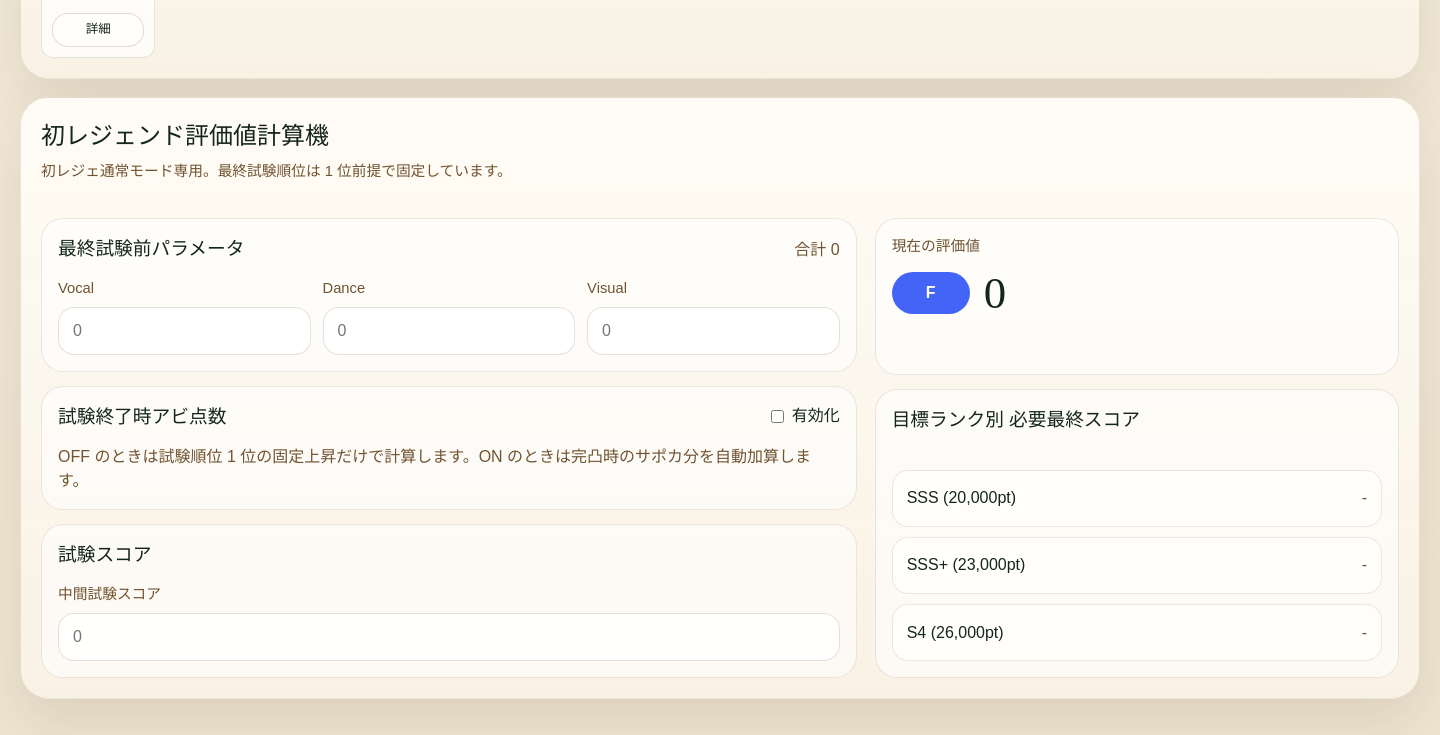
Test case: AppShell › renders the initial legend calculator and updates evaluation targets
(page scrolled)
Expected: the heading "初レジェンド評価値計算機" is shown, left=41, top=123, right=329, bottom=149
Expected: the text named "現在の評価値" reads "0", left=984, top=268, right=1006, bottom=318
Type "1800" into the number field named "最終試験前 Vocal" at (184, 331), box left=58, top=307, right=310, bottom=355
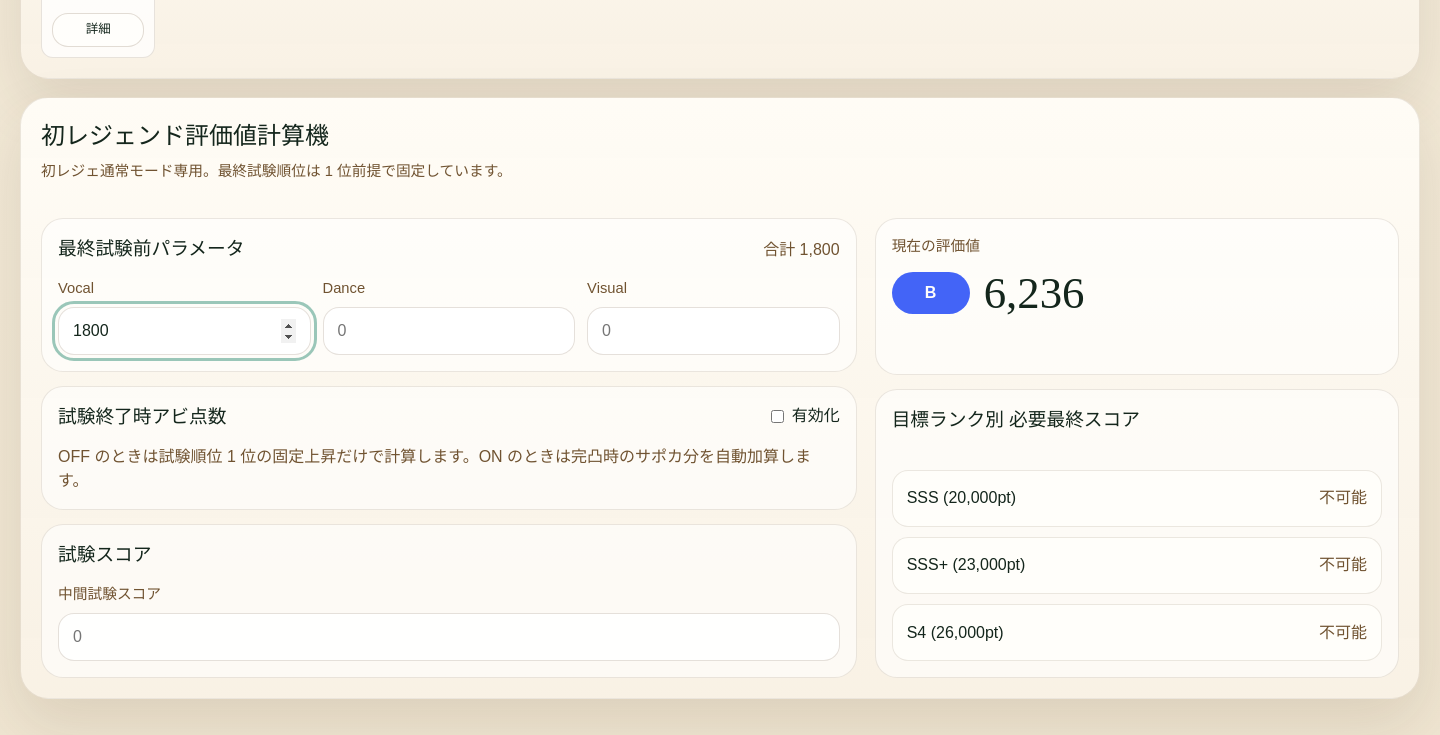
Type "1800" into the number field named "最終試験前 Dance" at (449, 331), box left=322, top=307, right=575, bottom=355
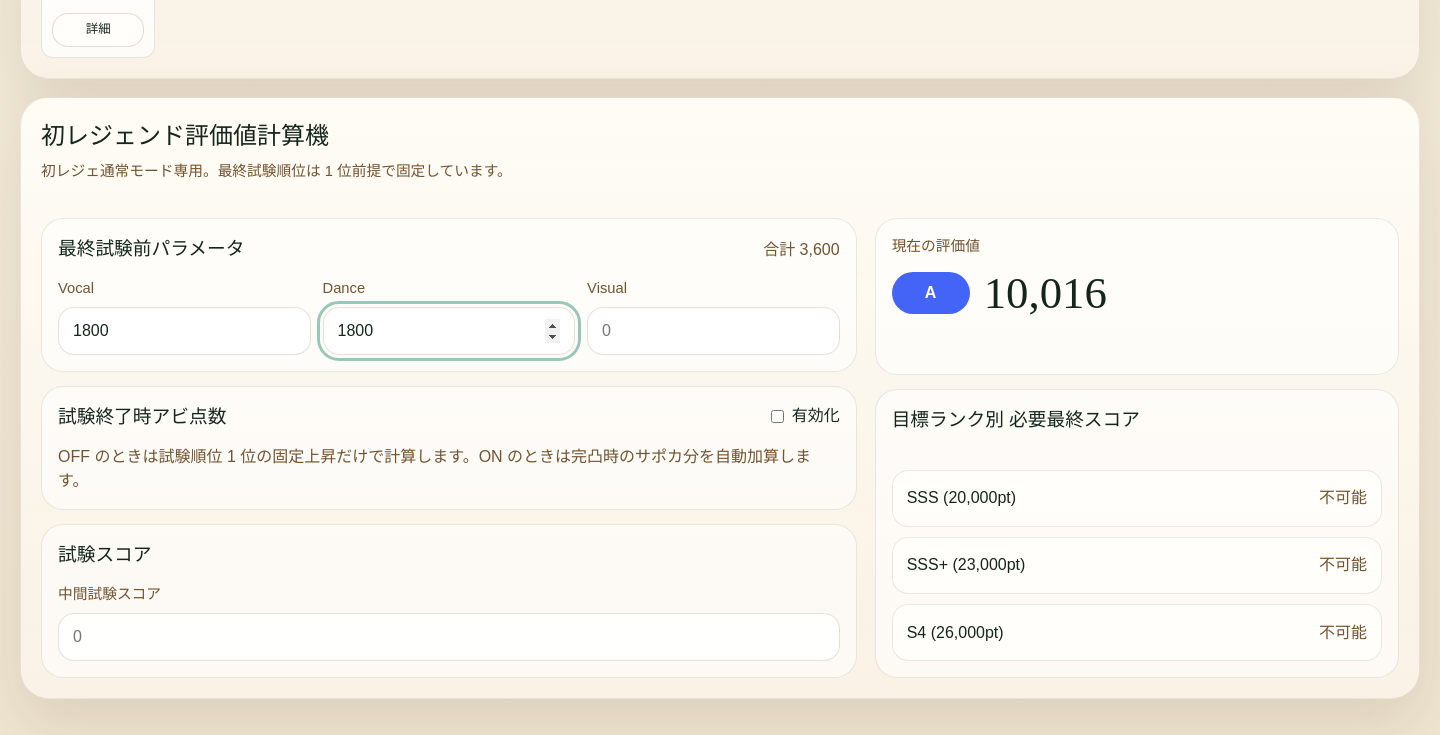
Type "1800" into the number field named "最終試験前 Visual" at (713, 331), box left=587, top=307, right=840, bottom=355
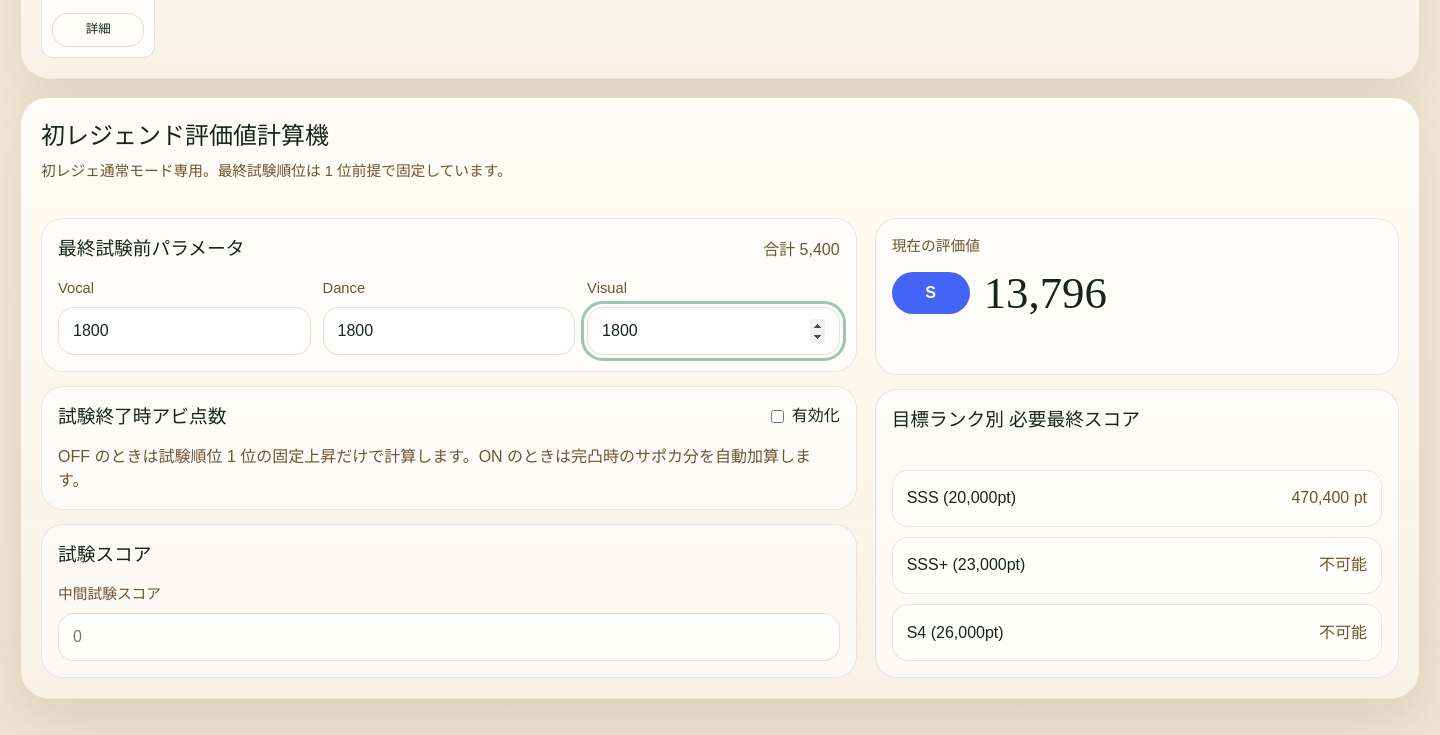
Type "30000" into the number field labelled "中間試験スコア" at (449, 637), box left=58, top=613, right=840, bottom=661
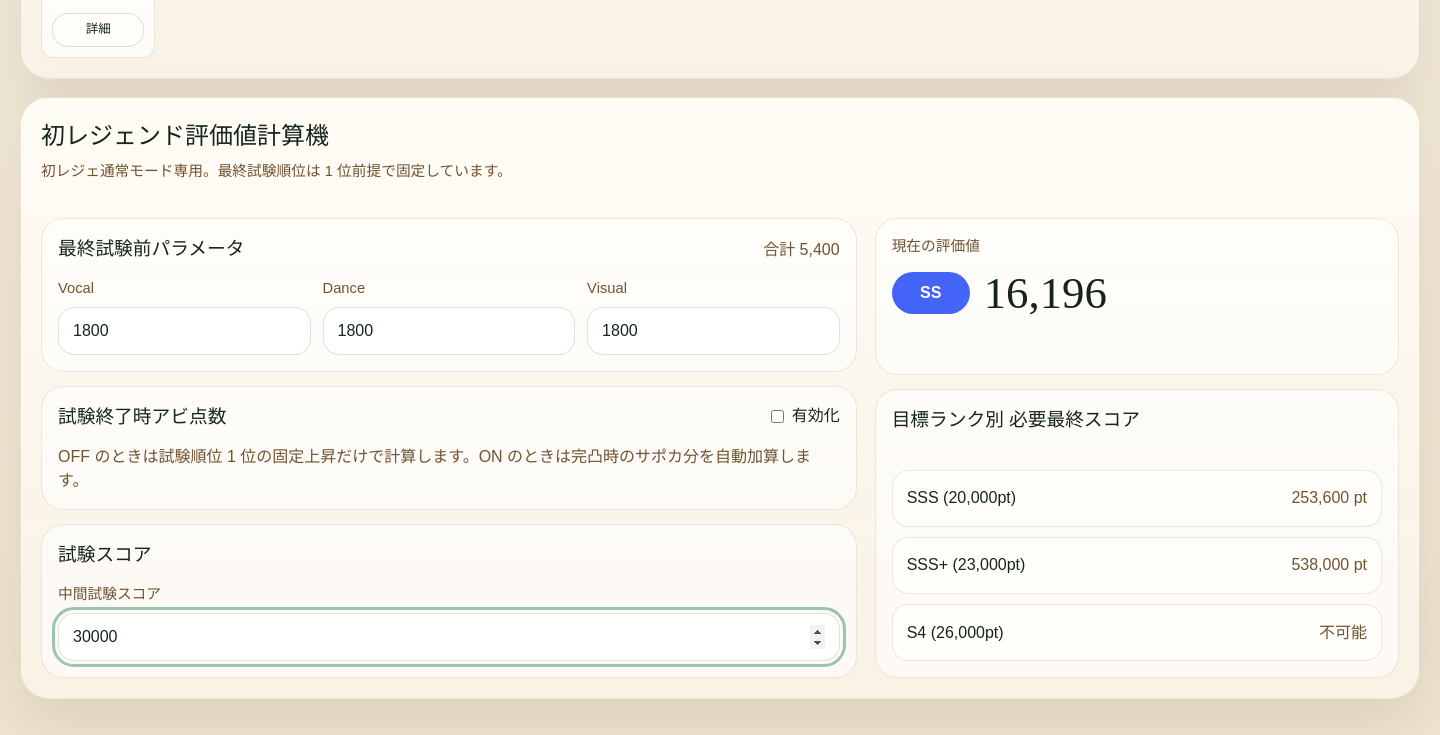
Result: the text named "現在の評価値" reads "16,196" at left=984, top=268, right=1107, bottom=318
Result: the text named "現在ランク" reads "SS" at left=920, top=284, right=941, bottom=301
Result: the text named "SSSに必要な最終試験スコア" reads "253,600 pt" at left=1291, top=489, right=1367, bottom=506
Click the checkbox labelled "有効化" at (777, 416), box left=771, top=410, right=784, bottom=423
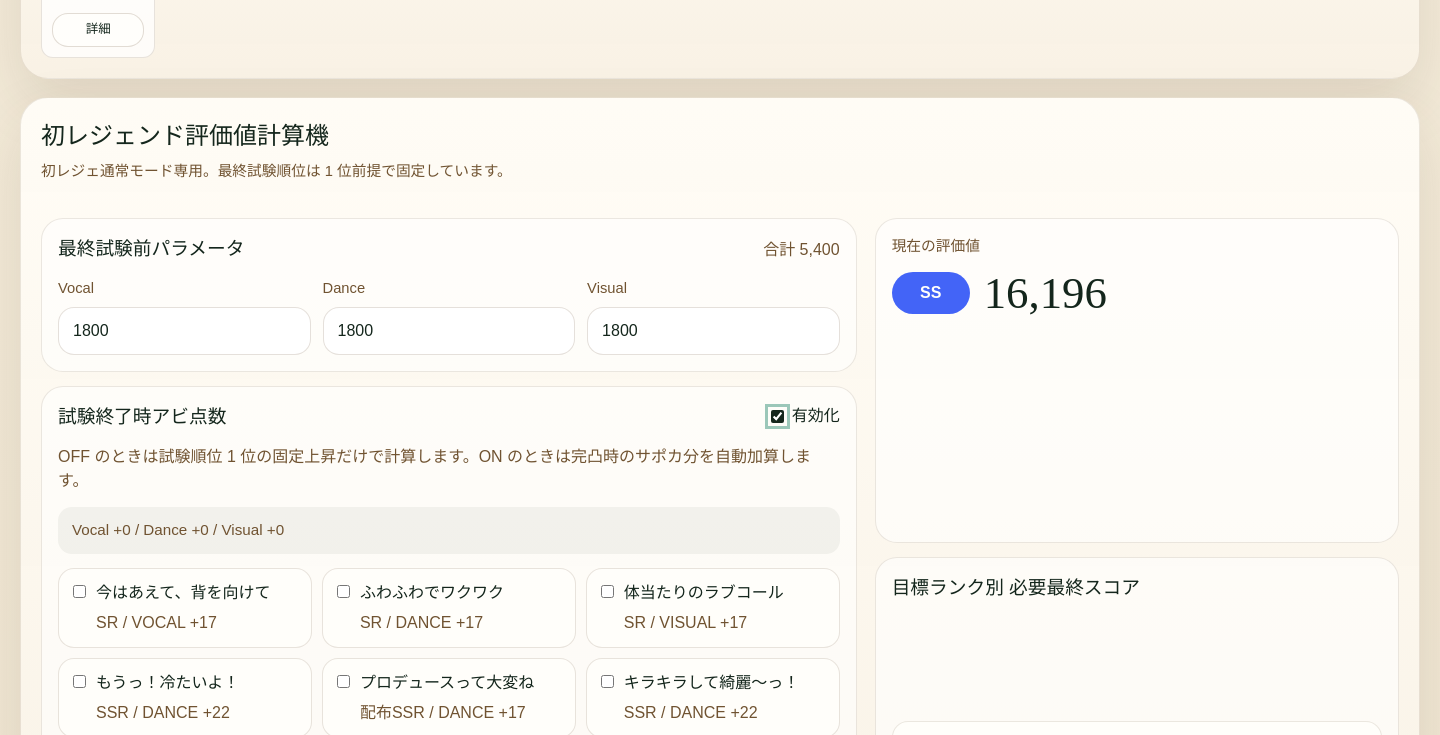
Result: the text named "試験終了時アビ点数の合計" reads "Vocal +0 / Dance +0 / Visual +0" at left=58, top=507, right=840, bottom=554
Click the checkbox labelled "もうっ！冷たいよ！ SSR / DANCE +22" at (80, 681), box left=73, top=675, right=86, bottom=688
(page scrolled)
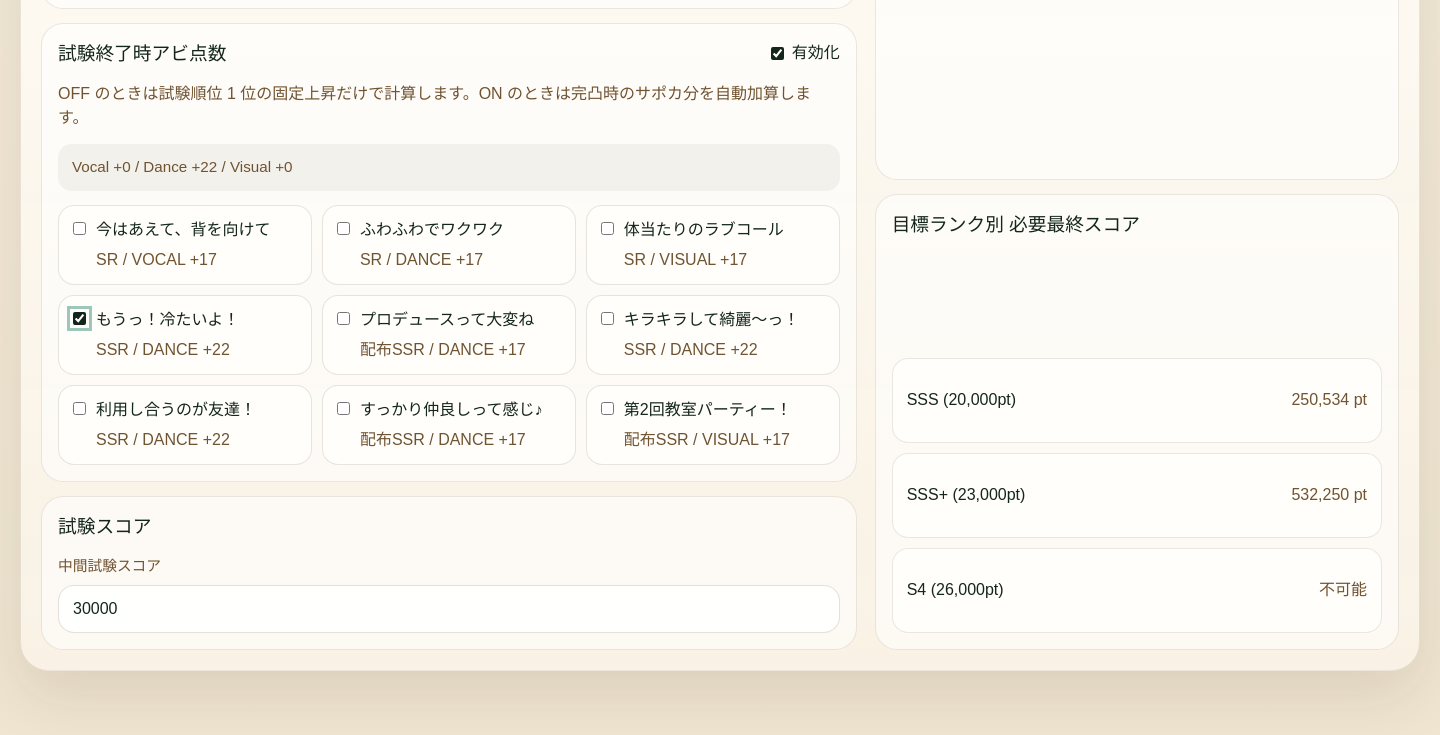
Result: the text named "試験終了時アビ点数の合計" reads "Vocal +0 / Dance +22 / Visual +0" at left=58, top=144, right=840, bottom=191
Result: the text named "SSSに必要な最終試験スコア" reads "250,534 pt" at left=1291, top=391, right=1367, bottom=408
